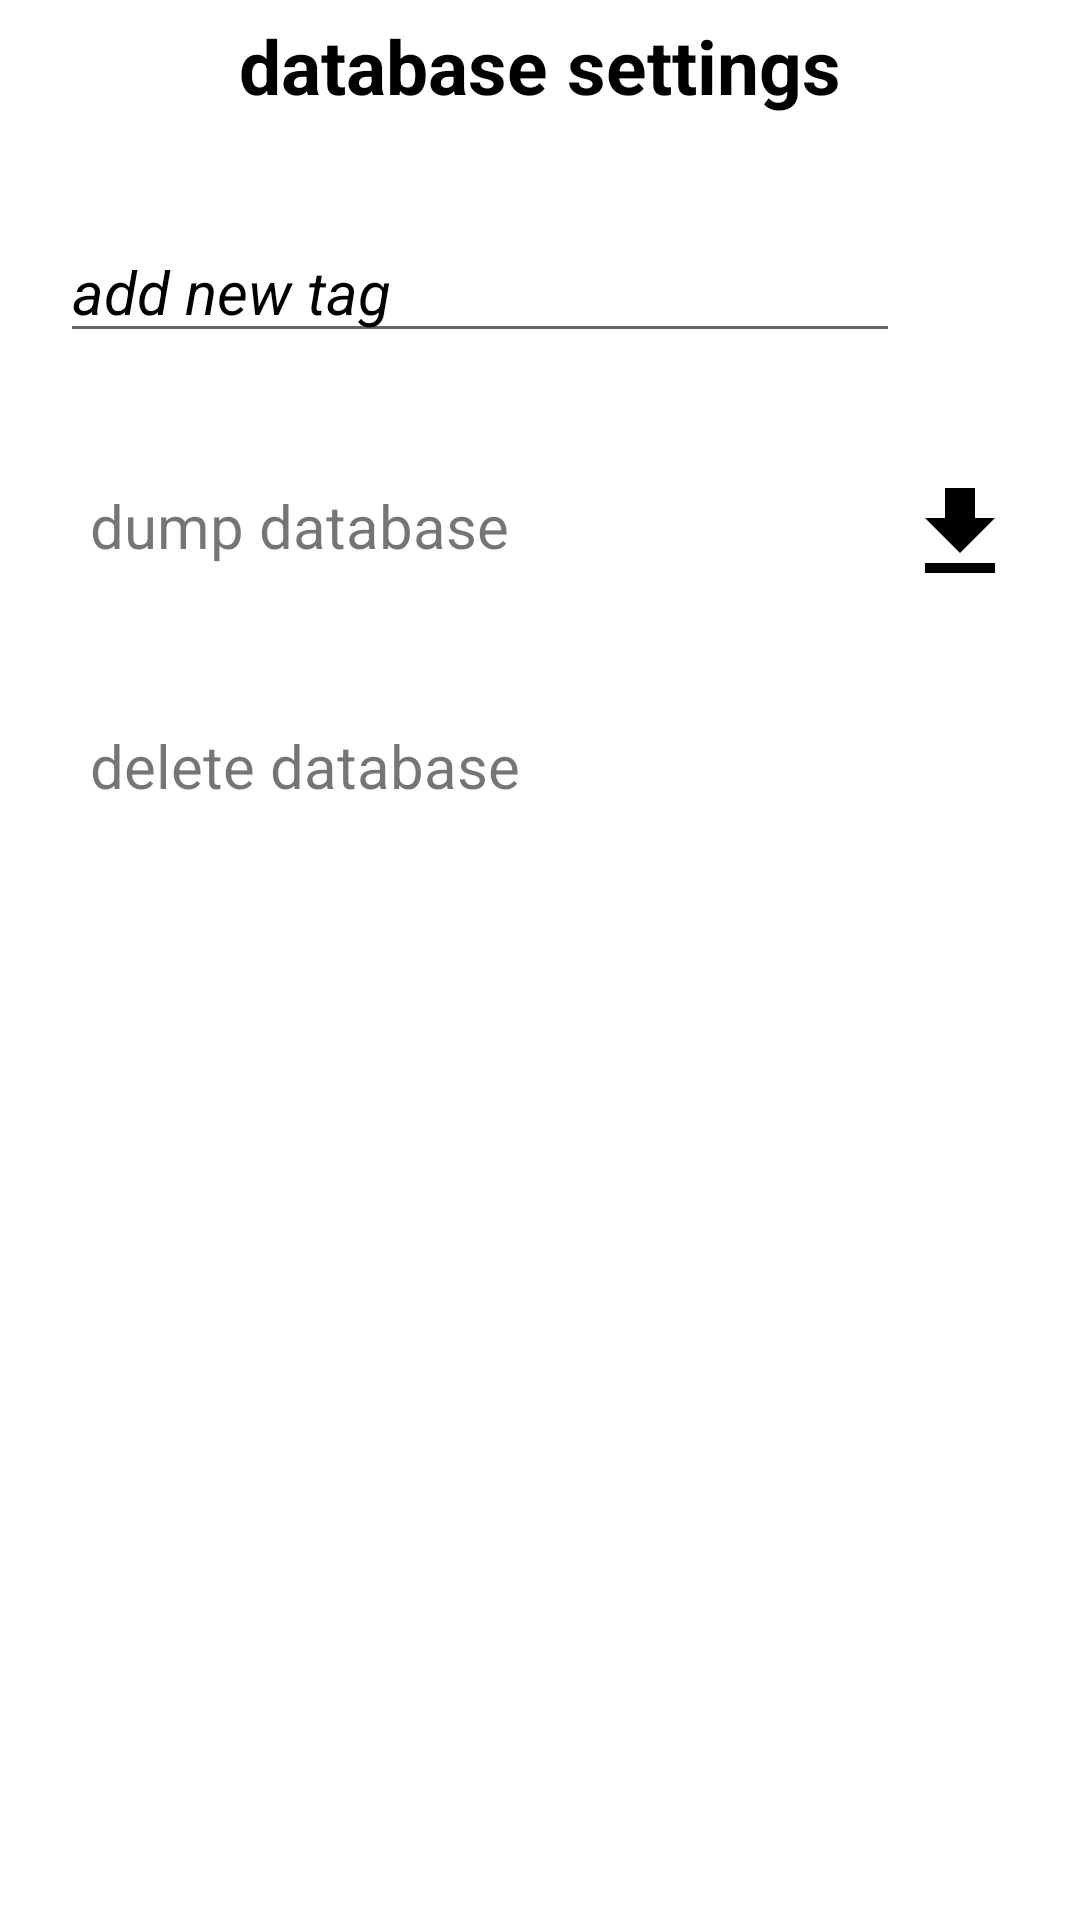

Named icons in this screenshot (1080 x 1920) and their bounding boxes, (x1, y1, x2, y2):
file download: (925, 488, 995, 573)
